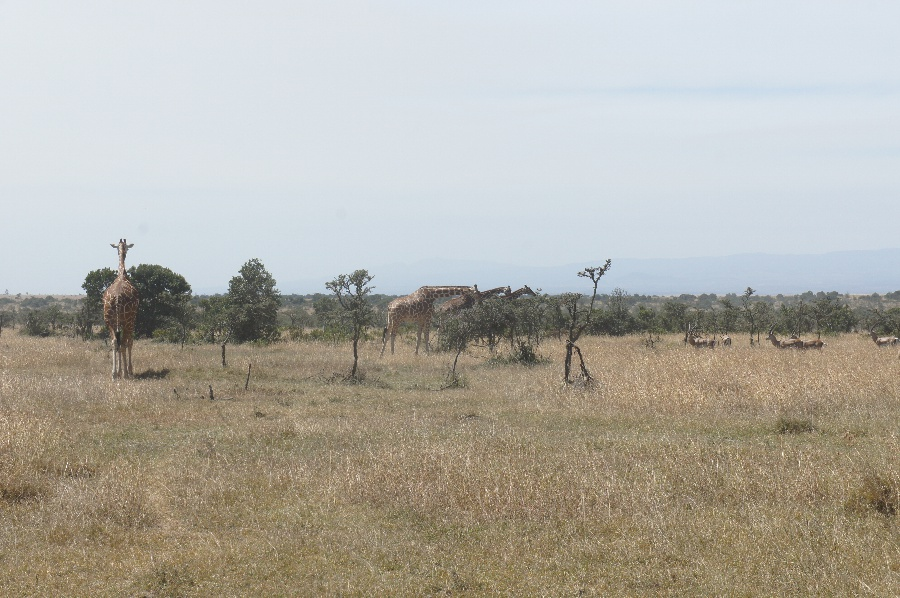giraffe: (370, 276, 489, 365), (92, 226, 146, 393)
